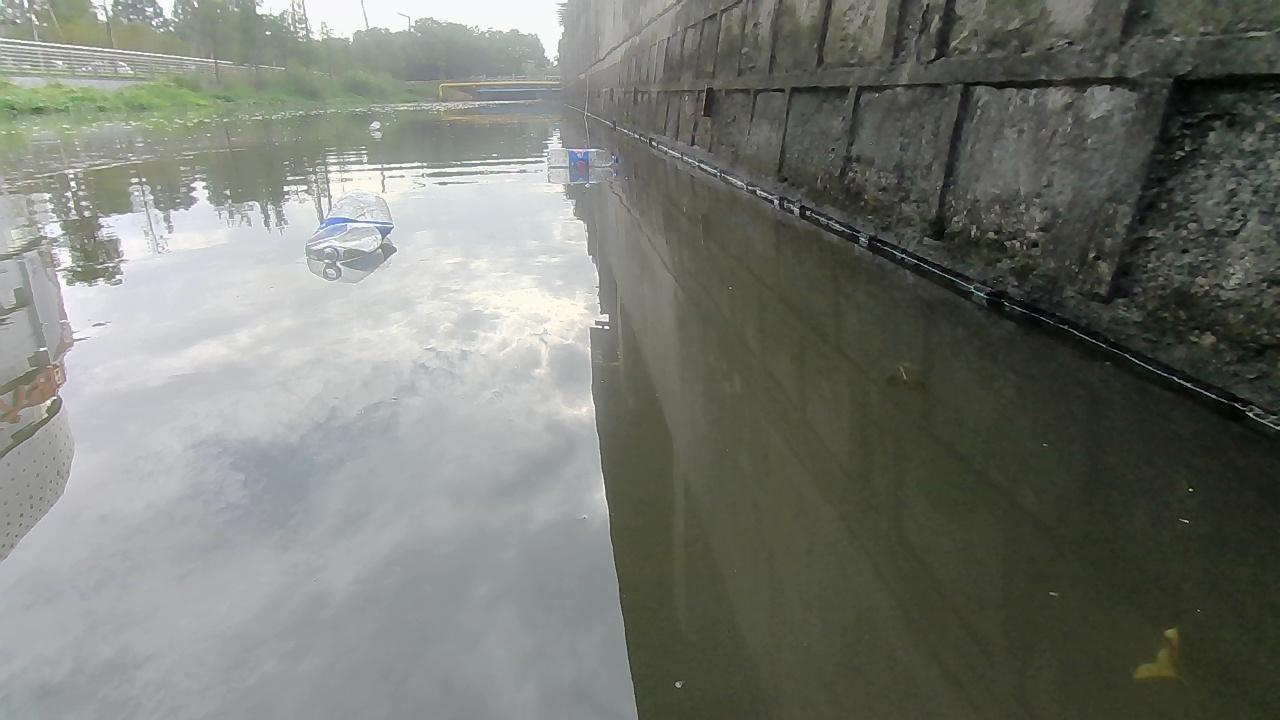bottle: (302, 186, 396, 264), (541, 148, 626, 168), (361, 118, 383, 136)
